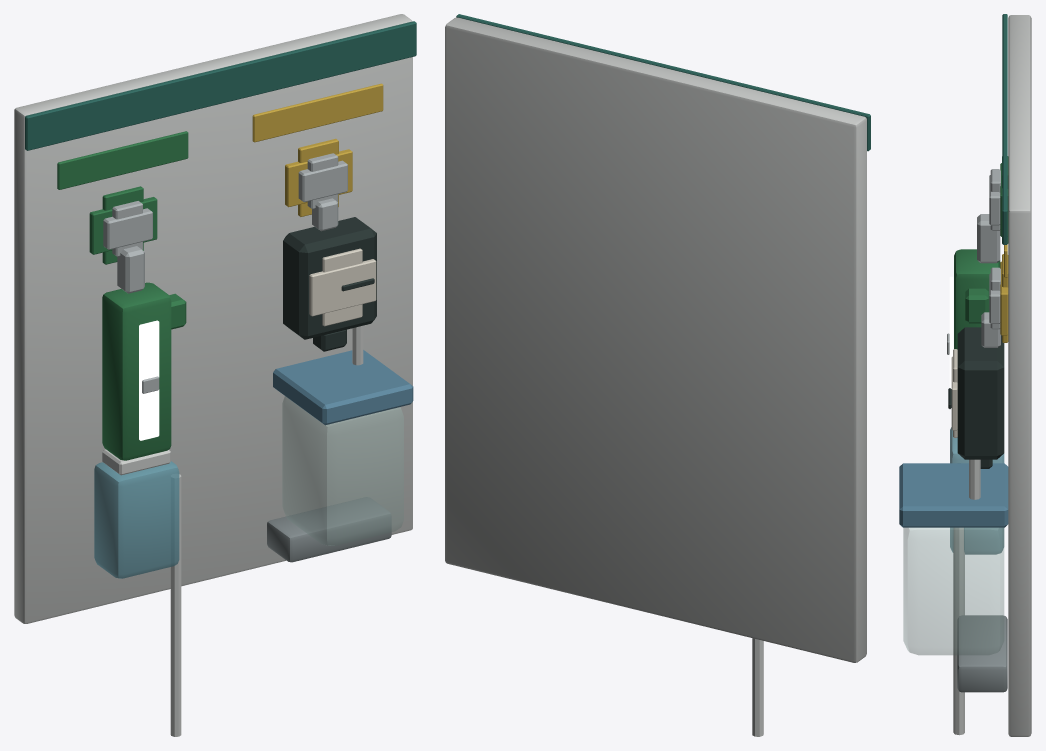
File: oxygen-outlet.glb
3 views of the same model, side by side, from view 1: azimuth 30°, elevation 25°; view 2: azimuth 150°, elevation 25°; view 3: azimuth 270°, elevation 25° (orthographic). The views are drawn at different scales.
Parts seen in each view (by area): view 1: oxygen-outlet; view 2: oxygen-outlet; view 3: oxygen-outlet.
Part boxes in pixels (left/top/right/bottom): oxygen-outlet: left=14, top=14, right=416, bottom=736; oxygen-outlet: left=445, top=14, right=870, bottom=736; oxygen-outlet: left=899, top=14, right=1031, bottom=736.
Bounding box in the file's own units: 0.6 × 0.93 × 0.17.
